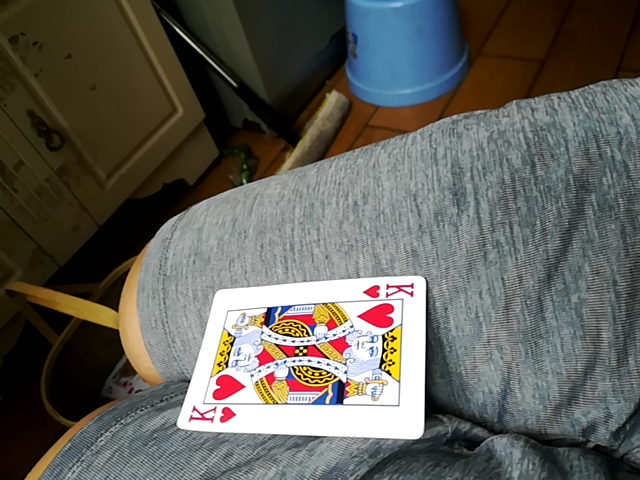hx k: (182, 273, 431, 441)
